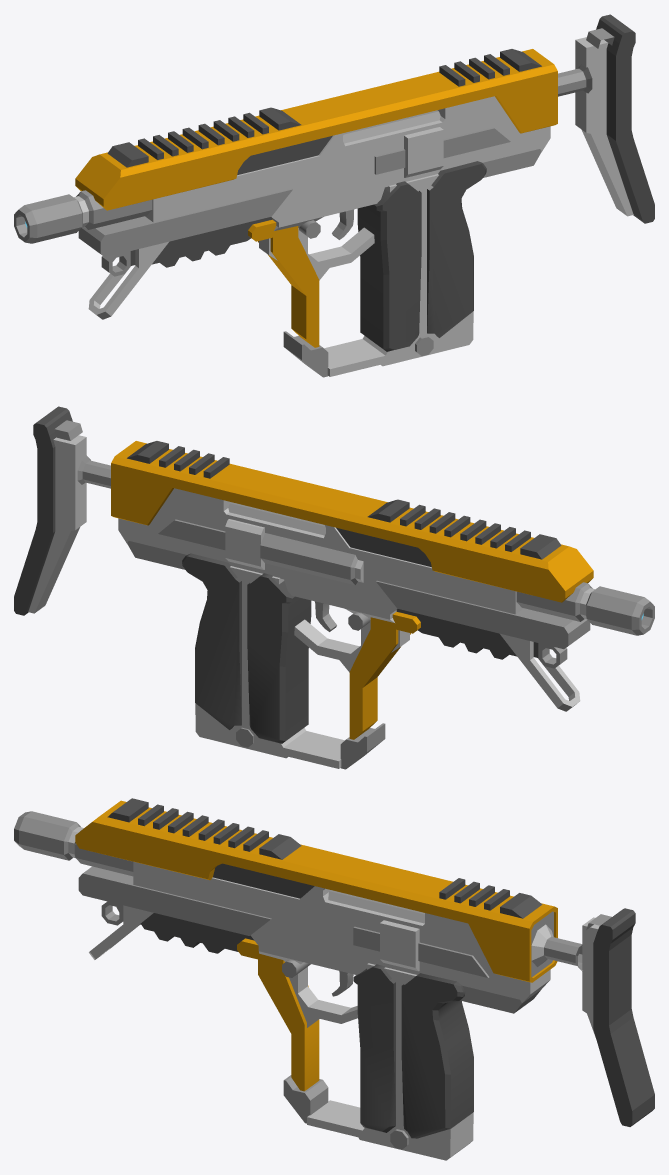
The model's file is SM_SMG02.fbx.
3 views of the same model, one above another, from view 1: azimuth 30°, elevation 25°; view 2: azimuth 150°, elevation 25°; view 3: azimuth 330°, elevation 25° (orthographic).
Parts seen in each view (by area): view 1: SM_SMG02; view 2: SM_SMG02; view 3: SM_SMG02.
Boxes of the visible parts, x1,y1,x2,y2 form: SM_SMG02: (14,14,654,377); SM_SMG02: (14,406,654,769); SM_SMG02: (14,798,654,1160).
Bounding box in the file's own units: 42.12 × 17.74 × 3.41.
